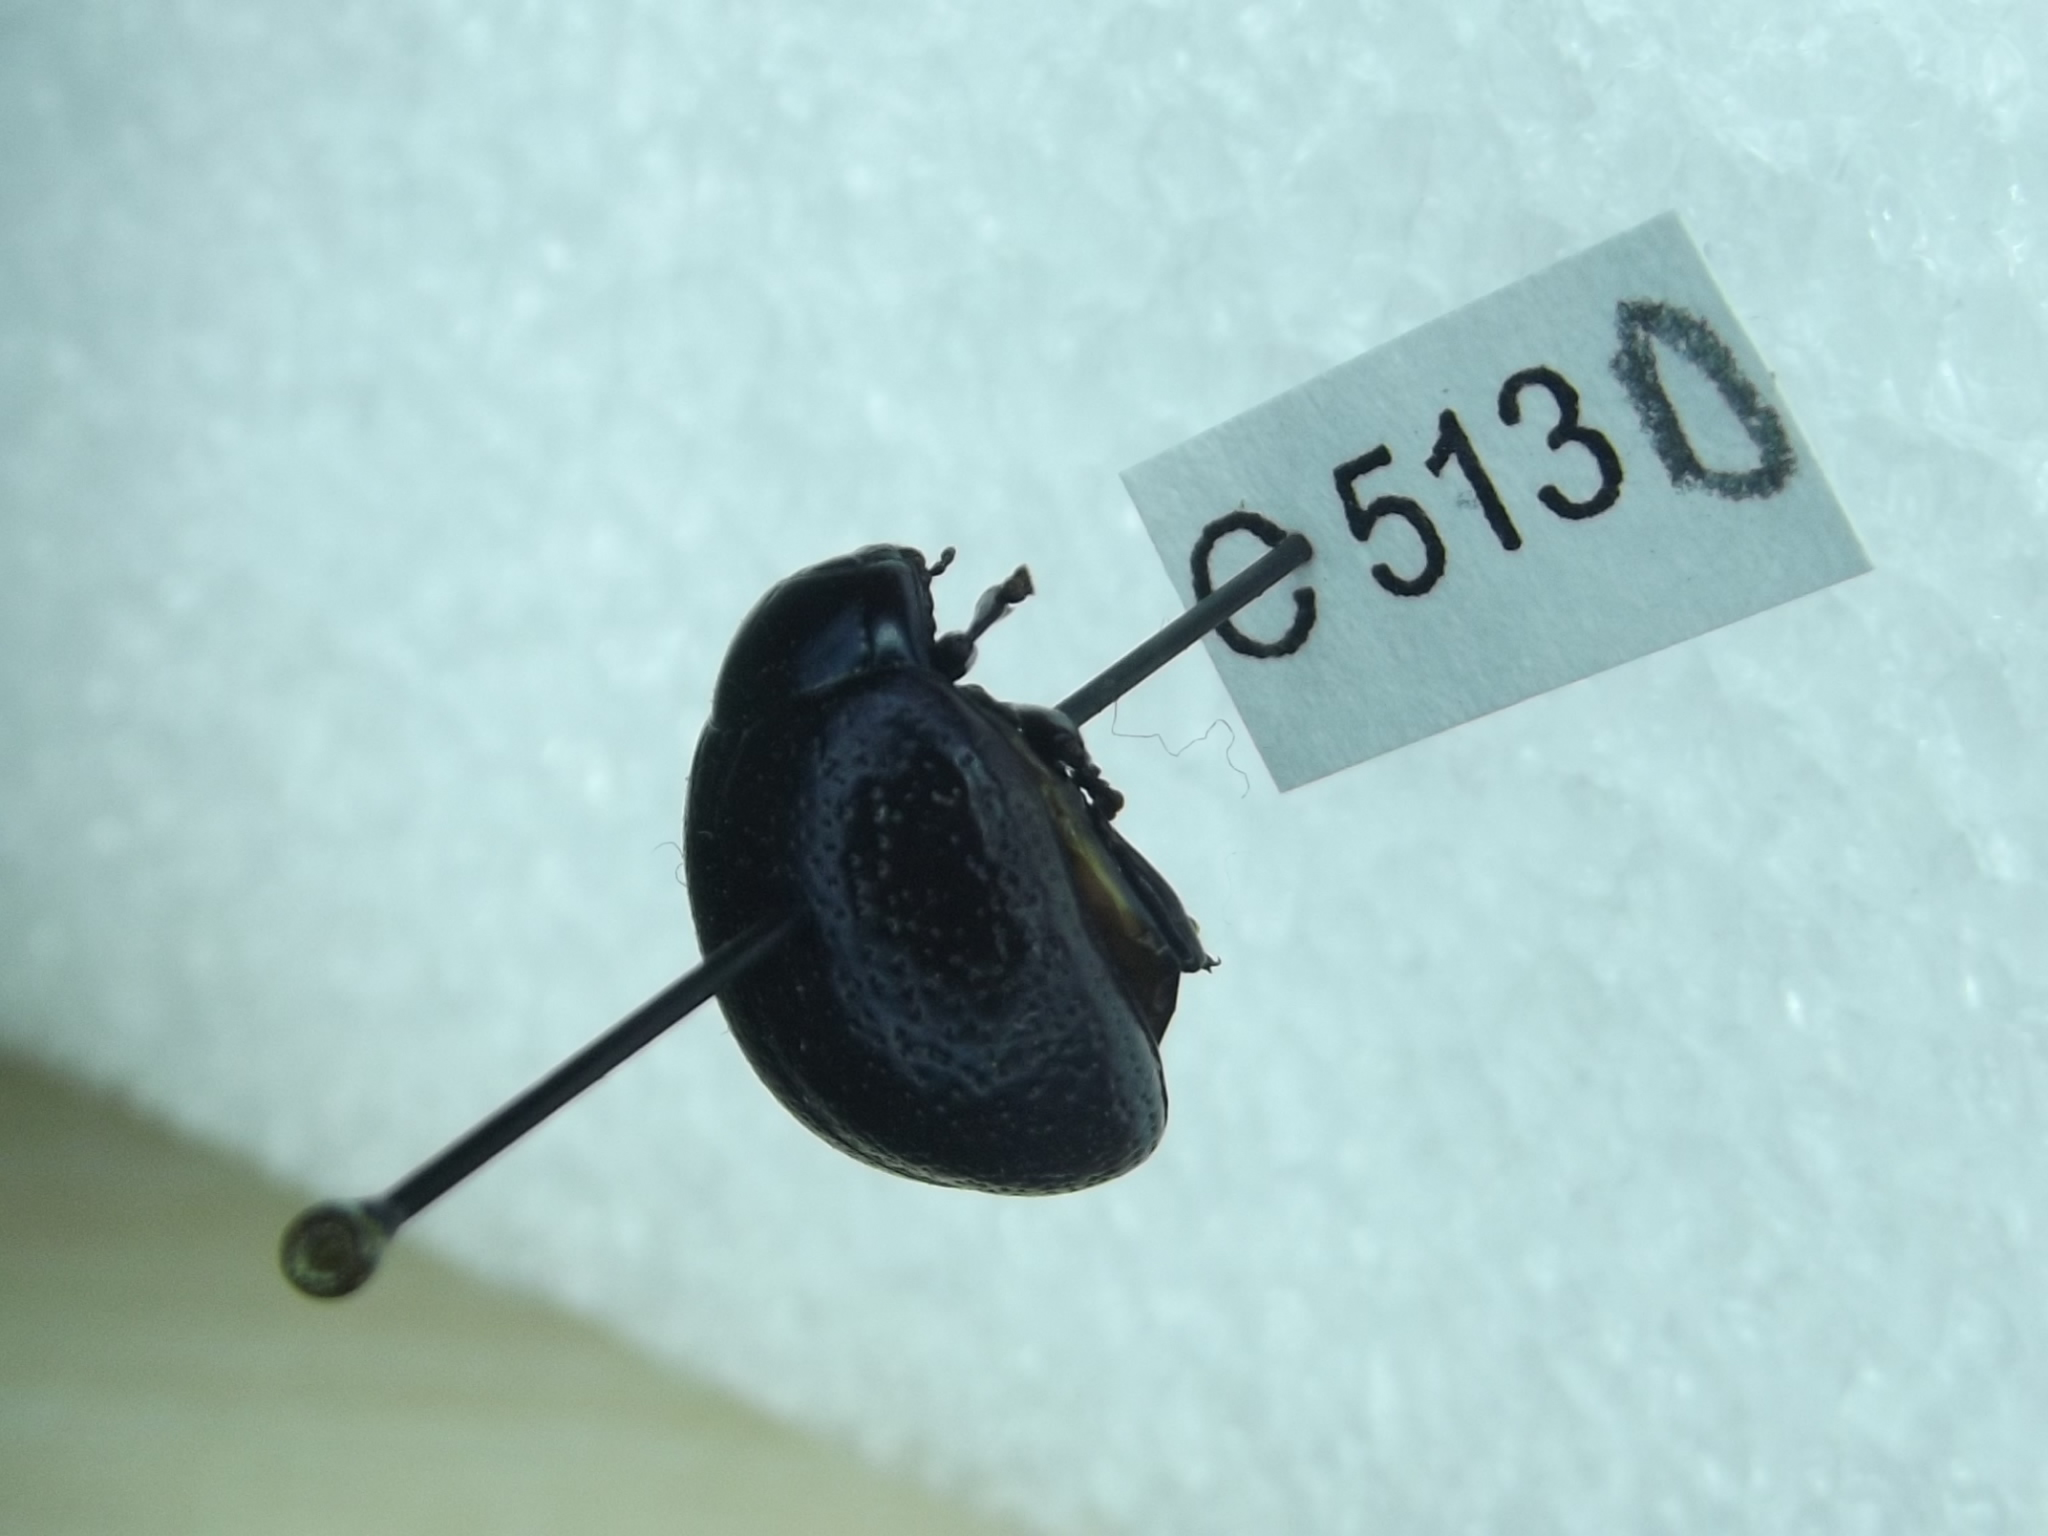Chrysolina_oricalcia: (679, 541, 1229, 1208)
